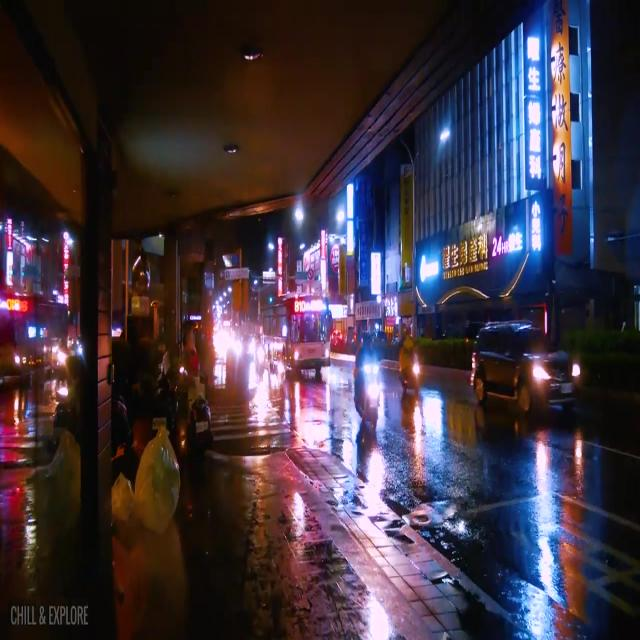Car: (472, 326, 580, 406)
